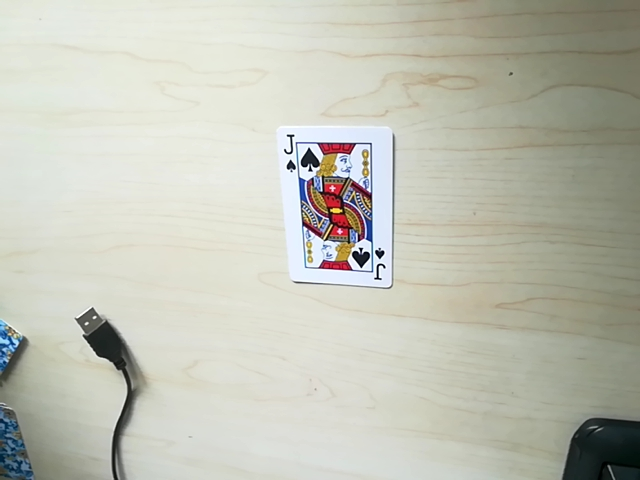ht j: (303, 252, 383, 283), (290, 134, 359, 168)
